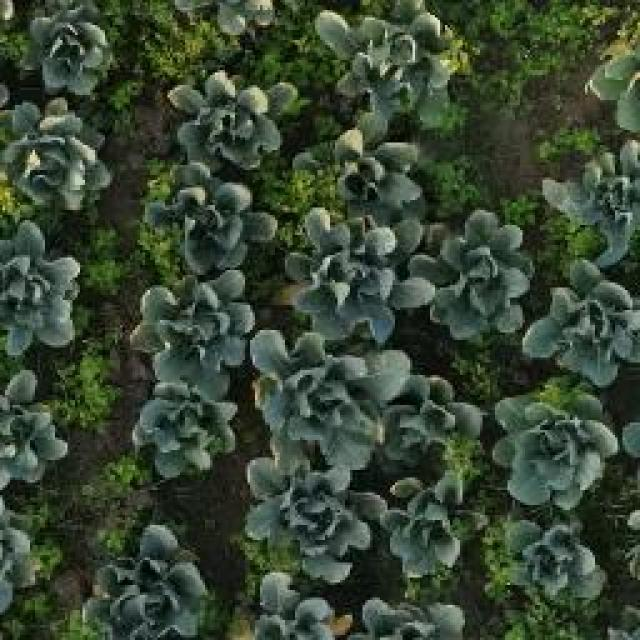cabbage: (252, 460, 380, 580), (263, 336, 379, 464), (292, 216, 418, 331), (493, 382, 605, 500), (130, 160, 242, 278), (425, 207, 535, 325), (0, 100, 108, 215), (334, 5, 452, 110), (532, 265, 638, 373), (142, 282, 246, 384), (94, 536, 194, 638), (309, 125, 419, 217), (171, 72, 283, 157), (0, 236, 82, 350), (386, 377, 484, 471), (18, 5, 116, 92), (556, 145, 640, 246), (506, 524, 606, 605), (0, 382, 70, 492), (387, 483, 476, 569), (143, 390, 240, 464), (245, 587, 355, 640), (364, 601, 468, 640)
